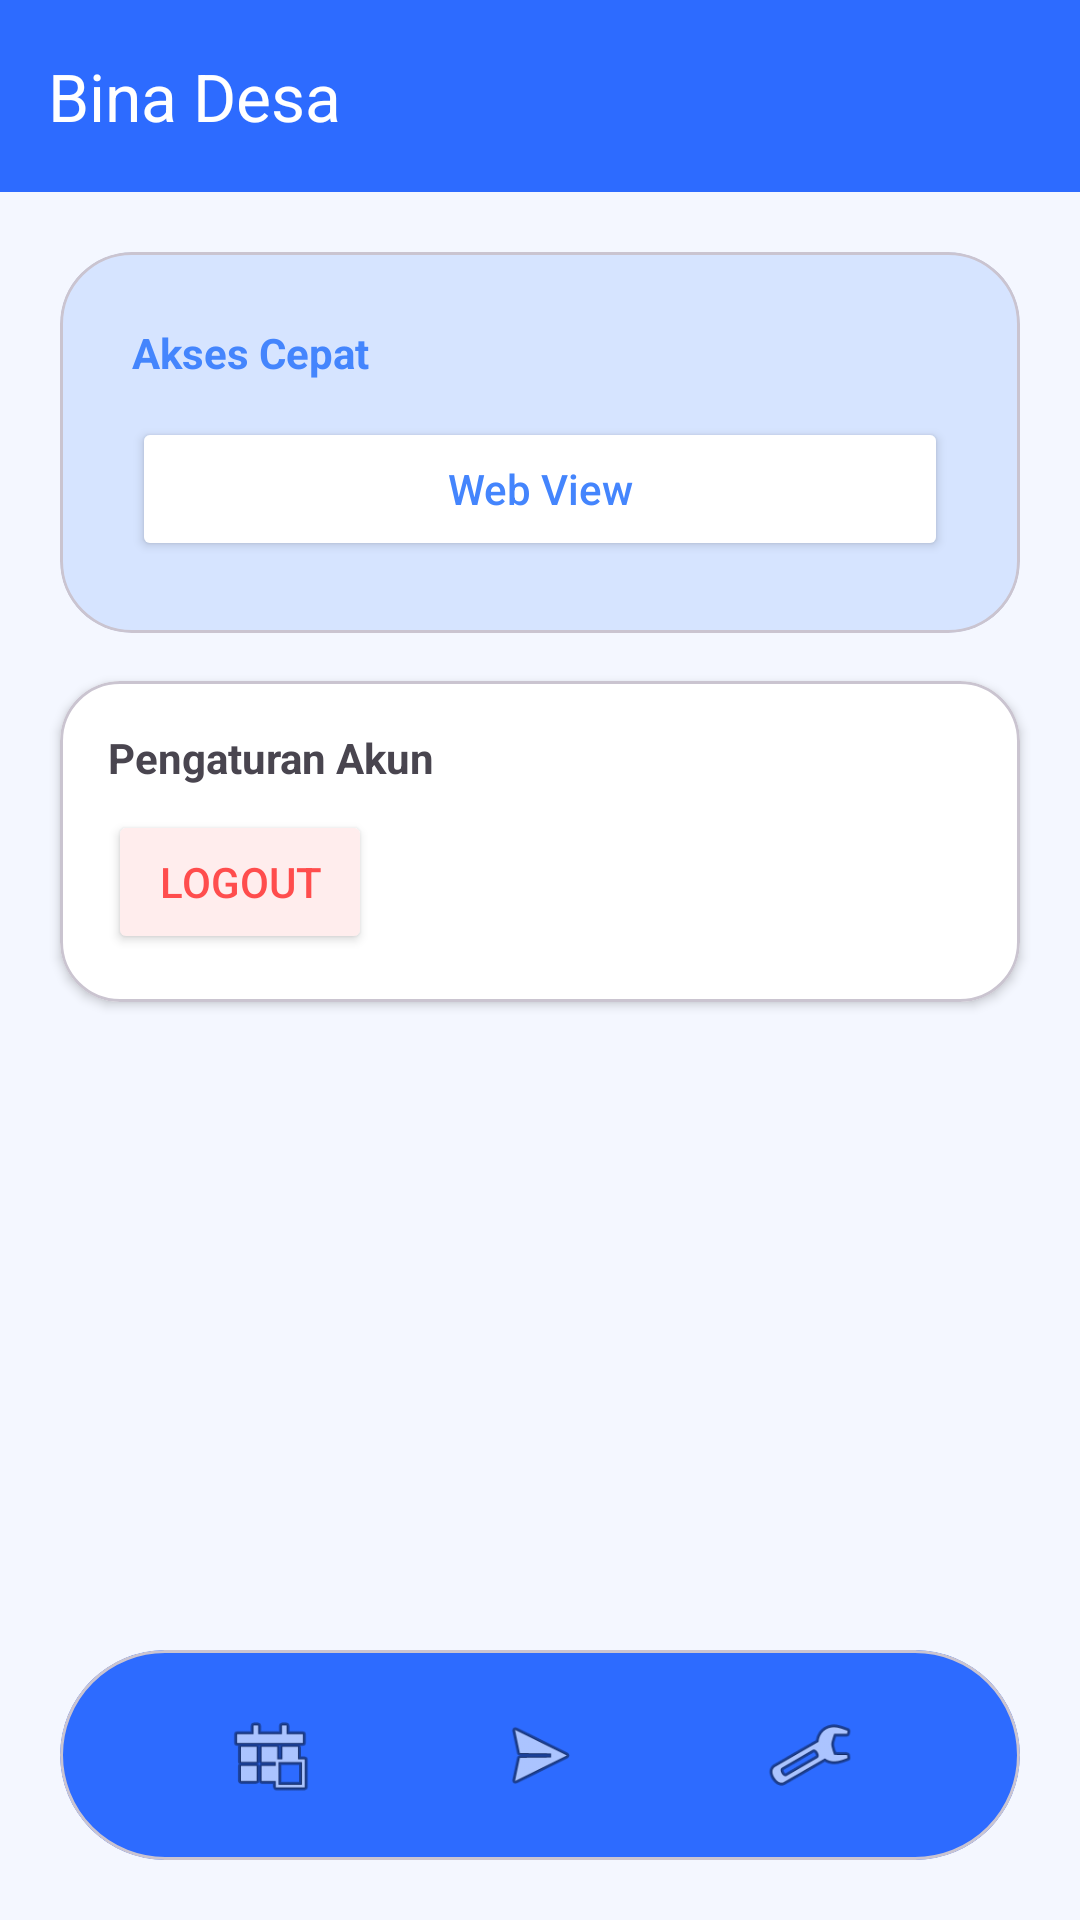

Screen size 1080w x 1920h. Icon name, then its center in pixels as (x=x, y=y):
manage: (x=810, y=1755)
send: (x=541, y=1755)
today: (x=271, y=1756)
